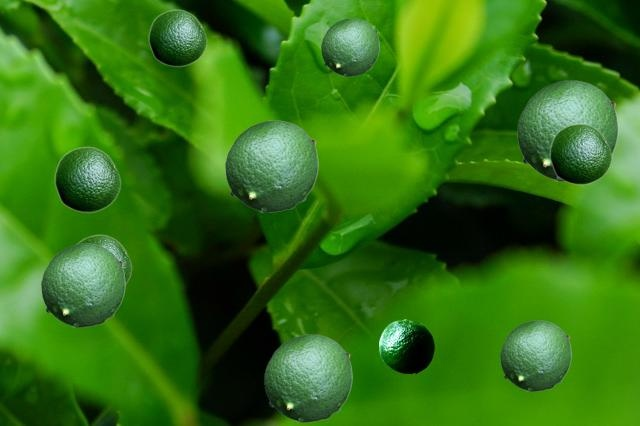calamansi: (517, 80, 617, 180), (225, 120, 317, 211), (264, 334, 351, 421), (41, 243, 124, 326), (500, 320, 570, 390), (54, 146, 120, 212), (549, 123, 611, 184), (148, 9, 206, 66), (321, 18, 378, 75), (379, 319, 433, 372), (76, 234, 131, 285)
